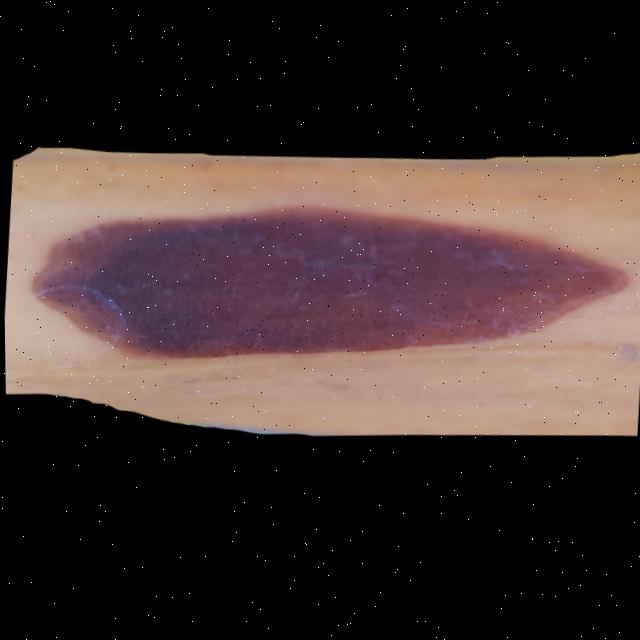mite: (34, 280, 132, 336), (440, 241, 536, 294), (77, 282, 131, 330), (447, 249, 523, 281), (604, 342, 640, 378), (612, 348, 639, 371), (336, 234, 356, 250)
sunburn: (24, 204, 632, 371)
